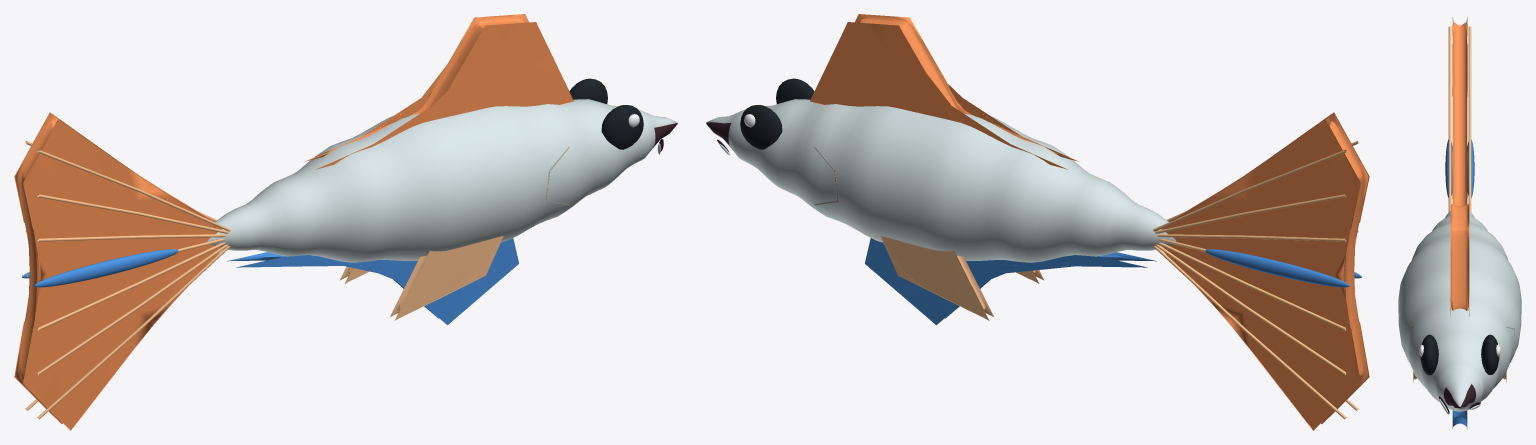
The model's file is Guppy_Refined.fbx.
3 renders of one model, left to right at view 1: azimuth 30°, elevation 25°; view 2: azimuth 150°, elevation 25°; view 3: azimuth 270°, elevation 25°, orthographic. The views are drawn at different scales.
Parts seen in each view (by area): view 1: Guppy shaped body, Guppy fan tail, Guppy dorsal fin, Guppy anal fin, Guppy pectoral fin, Guppy tail streak, Guppy eye, Guppy caudal ray, Guppy caudal ray.001, Guppy caudal ray.006, Guppy caudal ray.002, Guppy caudal ray.005 (+2 smaller); view 2: Guppy shaped body, Guppy fan tail, Guppy dorsal fin, Guppy anal fin, Guppy pectoral fin.001, Guppy tail streak.001, Guppy eye.001, Guppy caudal ray.007, Guppy caudal ray.008, Guppy caudal ray.013, Guppy caudal ray.009, Guppy caudal ray.012 (+2 smaller); view 3: Guppy shaped body, Guppy fan tail, Guppy dorsal fin, Guppy caudal ray.006, Guppy caudal ray.013, Guppy eye, Guppy eye.001, Guppy tail streak, Guppy tail streak.001, Guppy anal fin.
Boxes of the visible parts, <box> form: Guppy shaped body: <box>207,99,677,262</box>; Guppy fan tail: <box>14,112,222,430</box>; Guppy dorsal fin: <box>305,14,573,169</box>; Guppy anal fin: <box>227,238,518,324</box>; Guppy pectoral fin: <box>390,236,503,320</box>; Guppy tail streak: <box>34,249,178,287</box>; Guppy eye: <box>601,105,643,149</box>; Guppy caudal ray: <box>37,246,230,419</box>; Guppy caudal ray.001: <box>37,244,228,374</box>; Guppy caudal ray.006: <box>37,149,230,231</box>; Guppy caudal ray.002: <box>37,242,226,330</box>; Guppy caudal ray.005: <box>37,194,228,233</box>; Guppy shaped body: <box>706,99,1176,262</box>; Guppy fan tail: <box>1161,112,1369,430</box>; Guppy dorsal fin: <box>810,14,1078,169</box>; Guppy anal fin: <box>865,238,1156,324</box>; Guppy pectoral fin.001: <box>880,236,993,320</box>; Guppy tail streak.001: <box>1205,249,1349,287</box>; Guppy eye.001: <box>740,105,782,149</box>; Guppy caudal ray.007: <box>1153,246,1346,419</box>; Guppy caudal ray.008: <box>1155,244,1346,374</box>; Guppy caudal ray.013: <box>1153,149,1346,231</box>; Guppy caudal ray.009: <box>1157,242,1346,330</box>; Guppy caudal ray.012: <box>1155,194,1346,233</box>; Guppy shaped body: <box>1398,205,1521,411</box>; Guppy fan tail: <box>1452,17,1467,205</box>; Guppy dorsal fin: <box>1450,199,1469,316</box>; Guppy caudal ray.006: <box>1448,26,1451,211</box>; Guppy caudal ray.013: <box>1468,26,1471,211</box>; Guppy eye: <box>1420,334,1438,375</box>; Guppy eye.001: <box>1481,334,1499,375</box>; Guppy tail streak: <box>1445,139,1452,197</box>; Guppy tail streak.001: <box>1467,139,1474,197</box>; Guppy anal fin: <box>1452,410,1467,428</box>.
Size of the model in its own units: 174 by 79.85 by 33.43.
